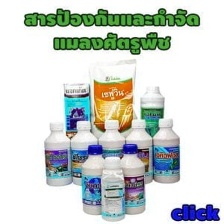insecticide: (85, 56, 142, 144), (59, 82, 99, 149), (113, 142, 147, 216), (80, 142, 112, 216), (122, 117, 155, 185), (68, 119, 101, 187), (41, 119, 74, 187), (150, 116, 182, 184), (96, 118, 127, 186), (98, 155, 126, 223), (139, 83, 166, 142)
